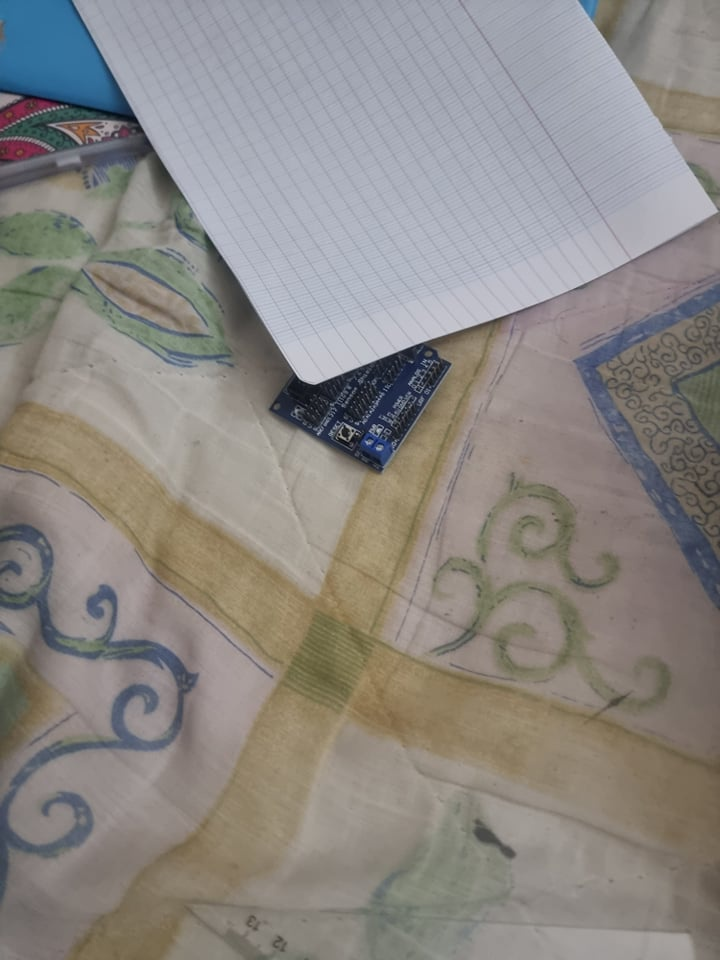5V EXPANSION: (268, 342, 454, 476)
